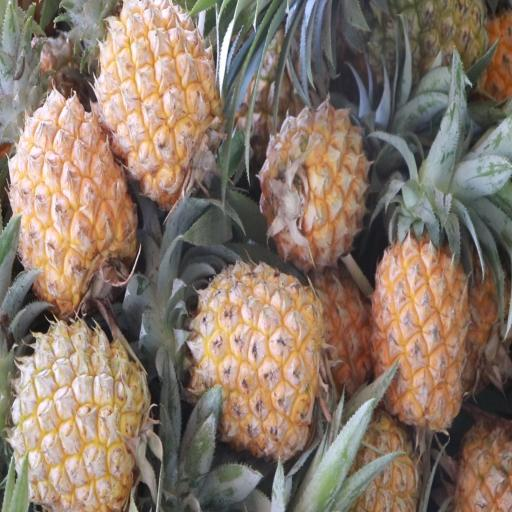Pineapple - v8 v1: (13, 104, 138, 316), (13, 317, 147, 508), (101, 4, 228, 198), (192, 266, 321, 456), (370, 232, 468, 433), (263, 105, 369, 268)
